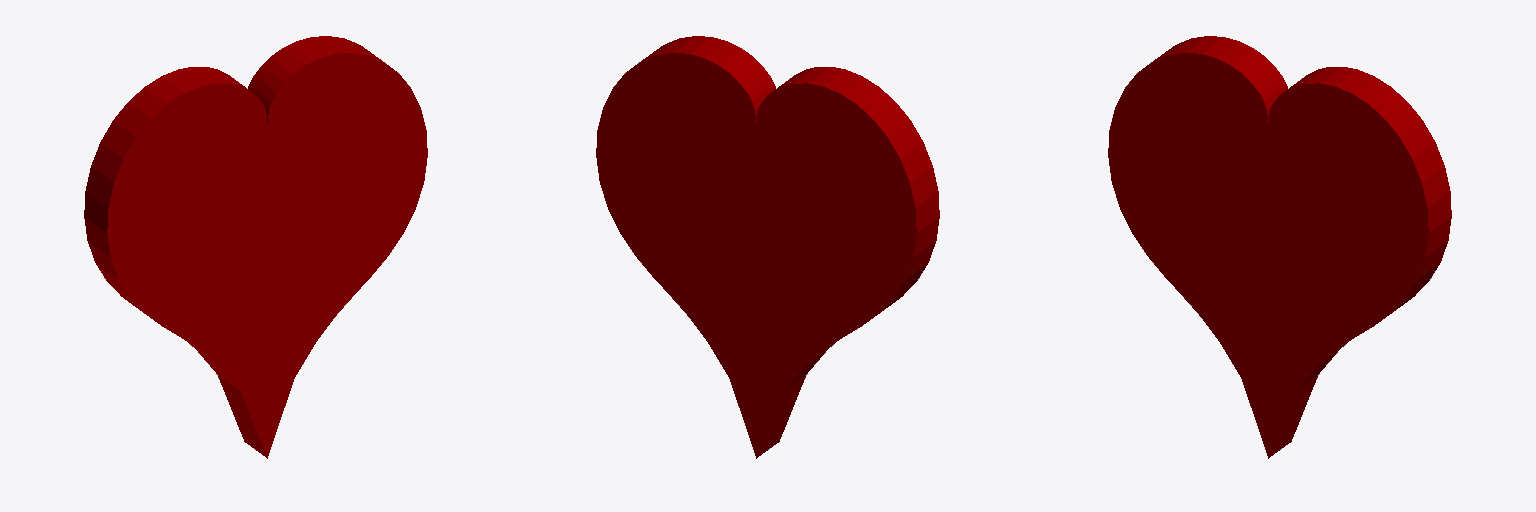
Rendered from heart.obj.
The picture shows the model from 3 angles: view 1: azimuth 30°, elevation 25°; view 2: azimuth 150°, elevation 25°; view 3: azimuth 330°, elevation 25°; orthographic projection.
Visible parts, largest first — view 1: heart.009; view 2: heart.009; view 3: heart.009.
Part boxes in pixels (x1,y1,x2,y2): heart.009: (84,36,427,458); heart.009: (596,36,939,458); heart.009: (1108,36,1451,458).
Size of the model in its own units: 4.01 by 4.64 by 0.5.